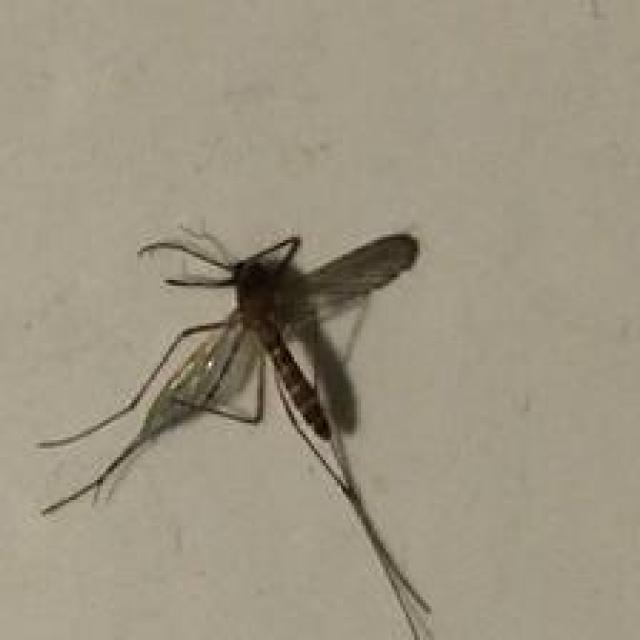Culex: (34, 220, 443, 640)
